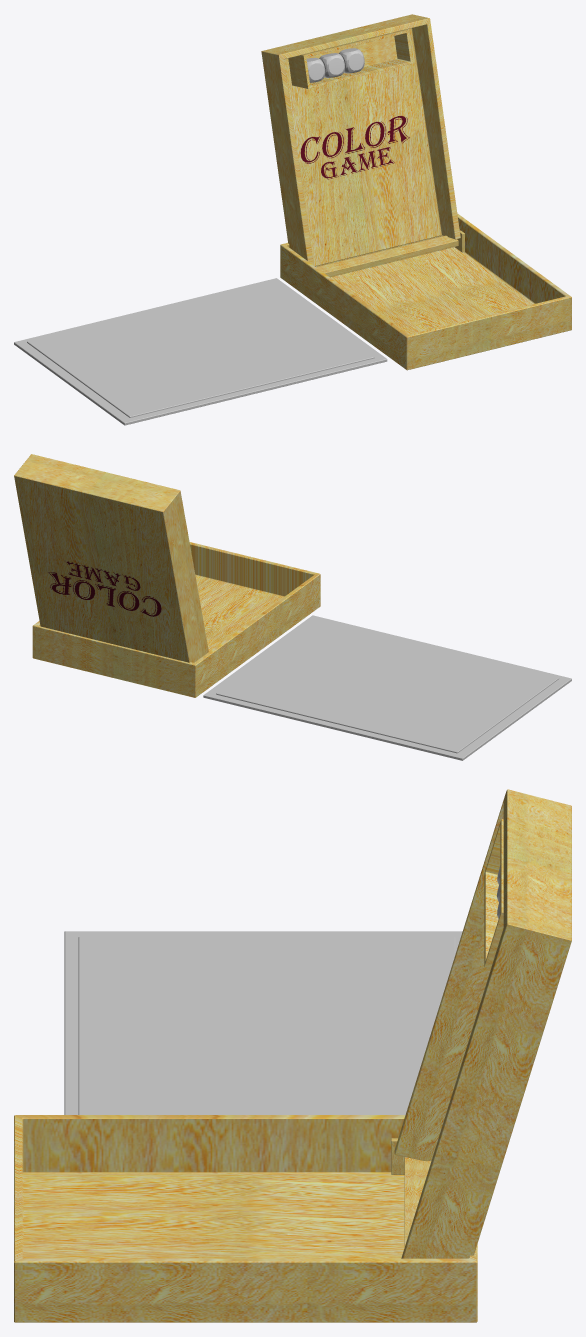
3 renders of one model, top to bottom at view 1: azimuth 30°, elevation 25°; view 2: azimuth 150°, elevation 25°; view 3: azimuth 270°, elevation 25°, orthographic. The views are drawn at different scales.
Parts seen in each view (by area): view 1: pCube2, pCube8, pCube1, pCube7, pCube4, pCube3; view 2: pCube2, pCube8, pCube1, pCube7; view 3: pCube1, pCube8, pCube2, pCube7, pCube4, pCube3.
Part boxes in pixels (x1,y1,x2,y2): pCube2: [261, 14, 460, 266]; pCube8: [27, 282, 374, 417]; pCube1: [280, 213, 571, 370]; pCube7: [14, 278, 387, 425]; pCube4: [288, 29, 413, 88]; pCube3: [316, 235, 458, 277]; pCube2: [14, 454, 208, 662]; pCube8: [216, 619, 559, 753]; pCube1: [32, 542, 320, 697]; pCube7: [203, 615, 571, 760]; pCube1: [14, 1115, 477, 1322]; pCube8: [78, 937, 455, 1114]; pCube2: [394, 789, 571, 1258]; pCube7: [64, 931, 462, 1114]; pCube4: [484, 819, 503, 968]; pCube3: [404, 1157, 431, 1246].
Bounding box in the file's own units: 72.48 × 34.33 × 44.19.
